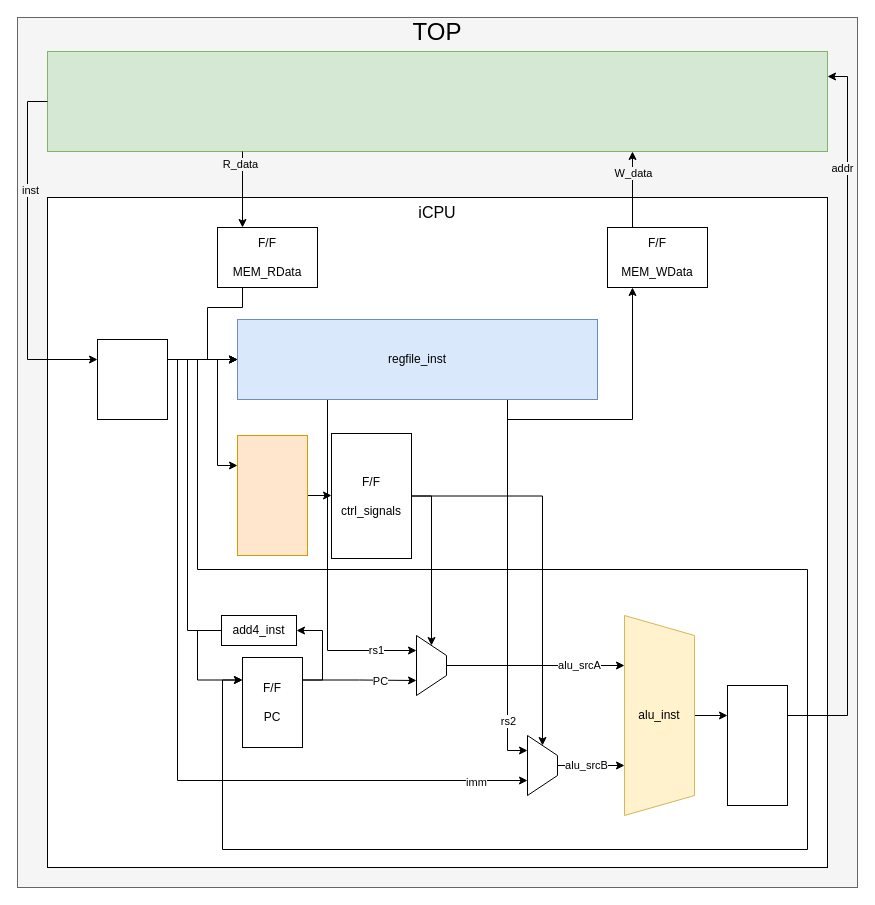
Image size: 875x905. Some labels were removed from this diagram. The shapes that lost their labels are listed below. From the top down, each one's box as (x1, y1, x2, y2) in pixels, then its label:
(46, 50, 828, 152): iMEM 32x4096
(96, 338, 168, 420): F/F instruction
(236, 434, 308, 556): dec_inst
(726, 684, 788, 806): F/F alu_out
